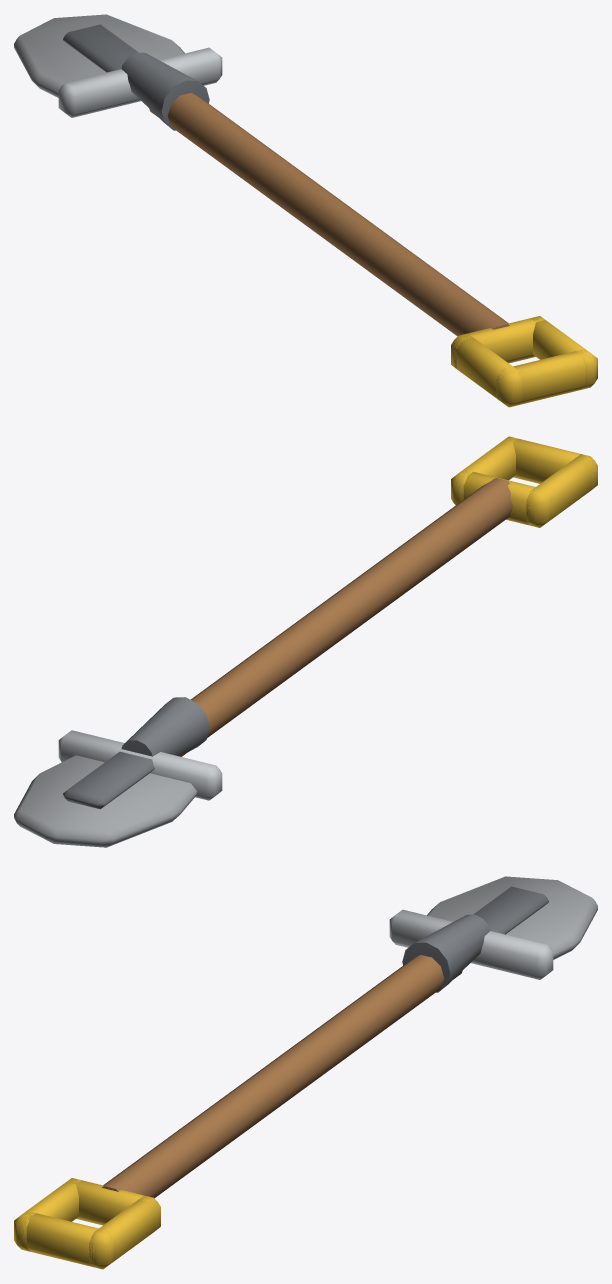
The model's file is SM_Shovel_01.glb.
3 renders of one model, top to bottom at view 1: azimuth 30°, elevation 25°; view 2: azimuth 150°, elevation 25°; view 3: azimuth 330°, elevation 25°, orthographic.
Visible parts, largest first — view 1: SM_Shovel_01; view 2: SM_Shovel_01; view 3: SM_Shovel_01.
Boxes of the visible parts, x1,y1,x2,y2 form: SM_Shovel_01: (14, 14, 597, 407); SM_Shovel_01: (14, 436, 597, 847); SM_Shovel_01: (14, 876, 597, 1269).
Bounding box in the file's own units: 0.26 × 0.08 × 1.45.
1 material, 1 textured.
